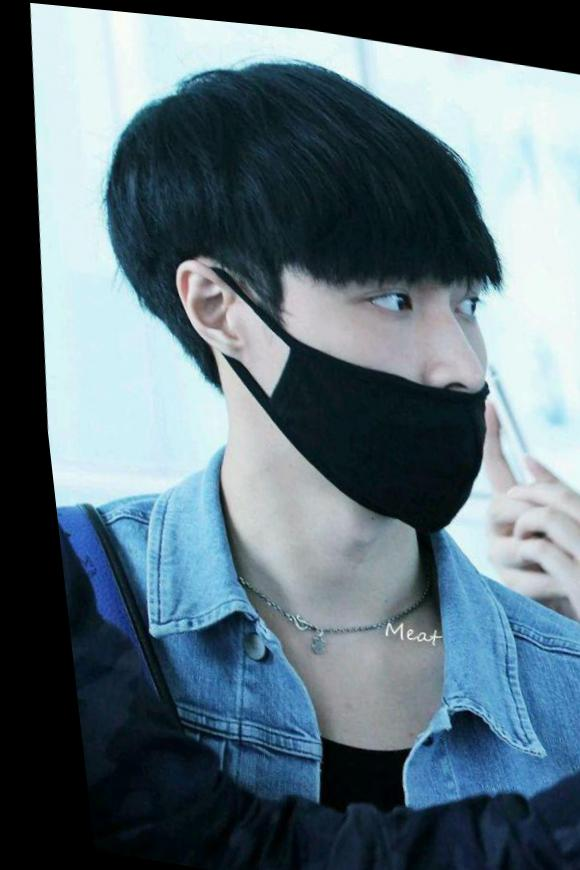WRONG: (158, 186, 510, 534)
